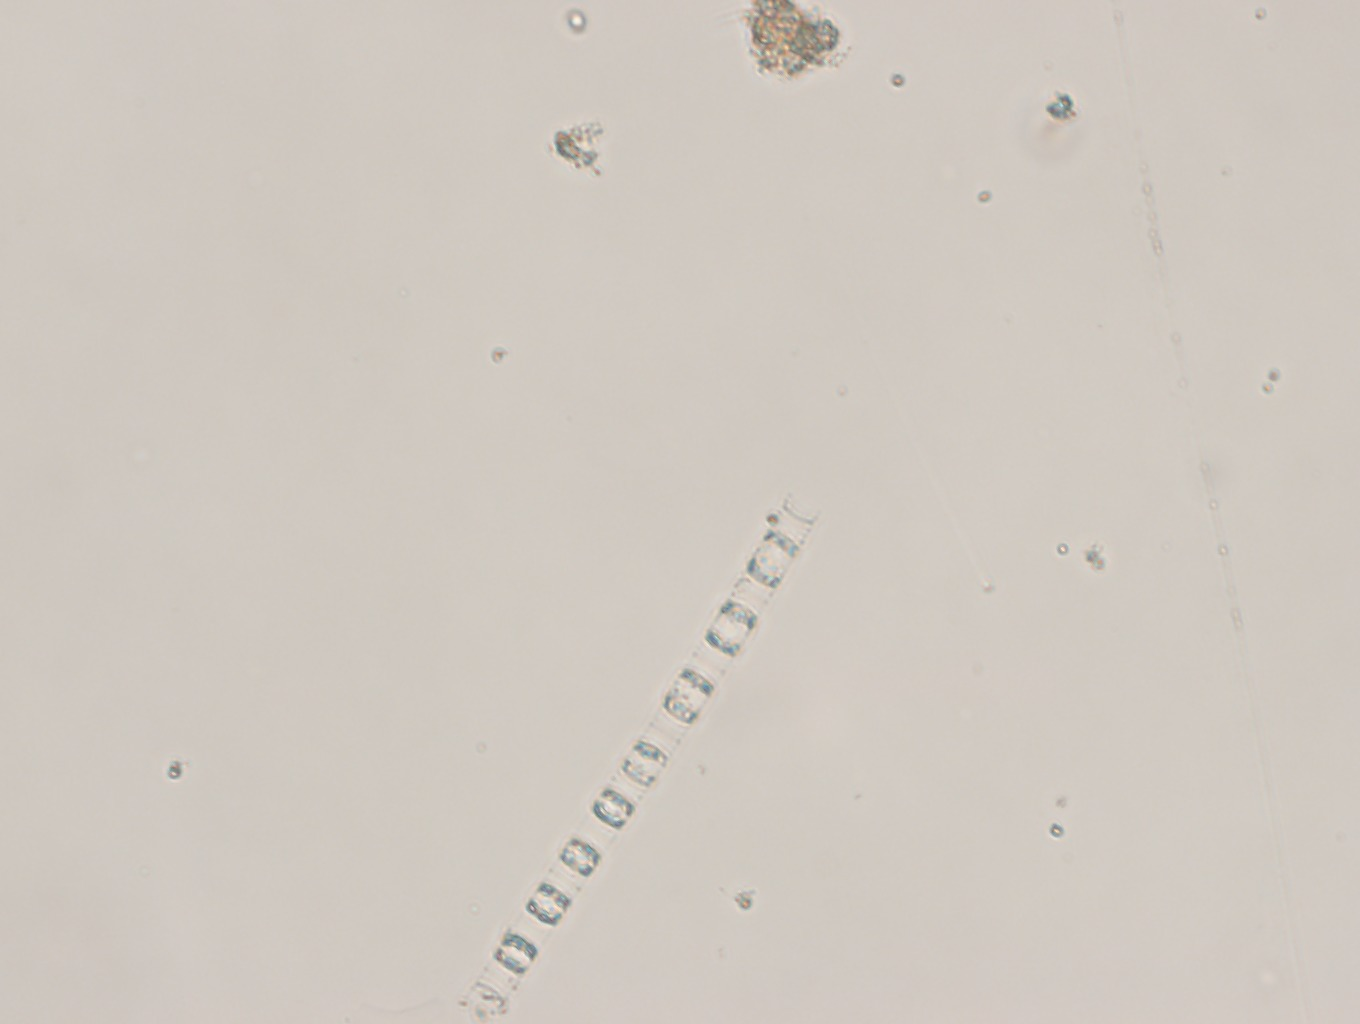skeletonema: (450, 474, 822, 1024)
